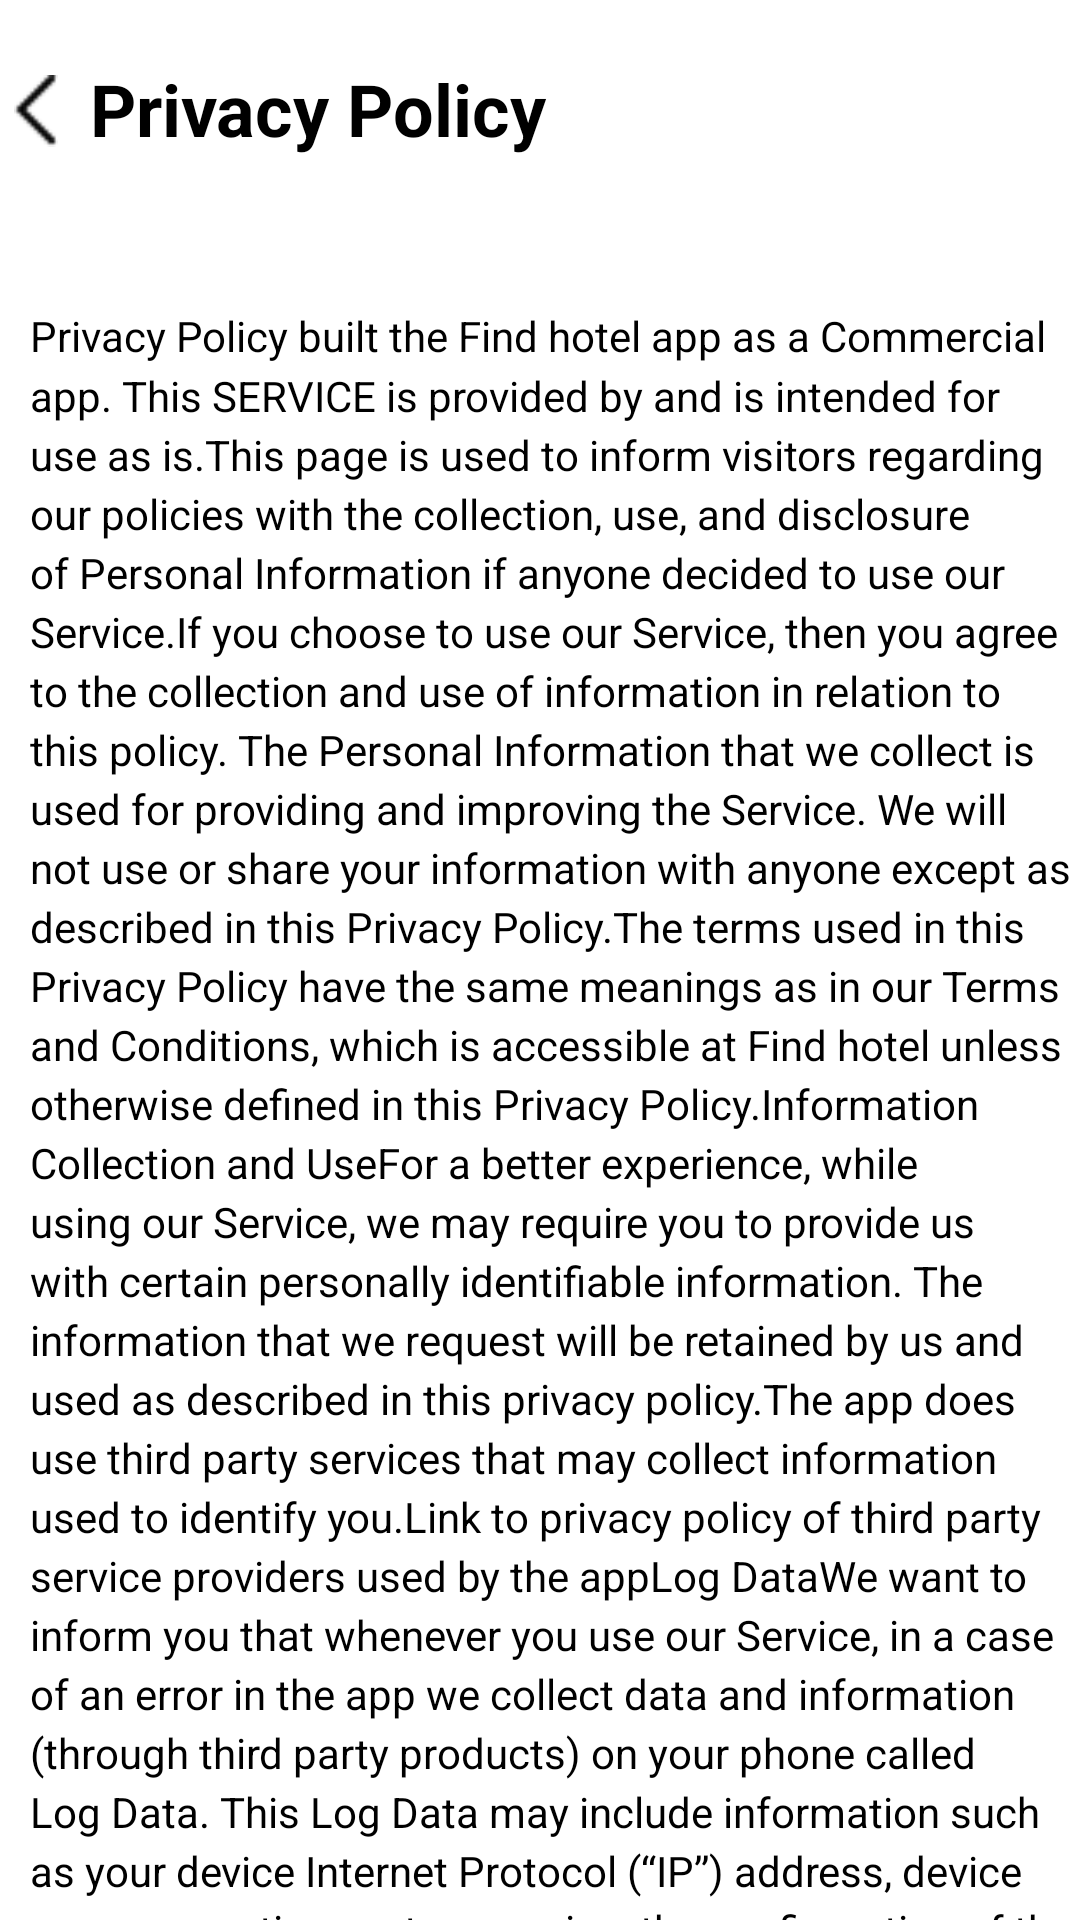

Where icons sit on this 1080w x 1920h app screen, as (x1, y1, x2, y2):
back: (14, 75, 56, 145)
